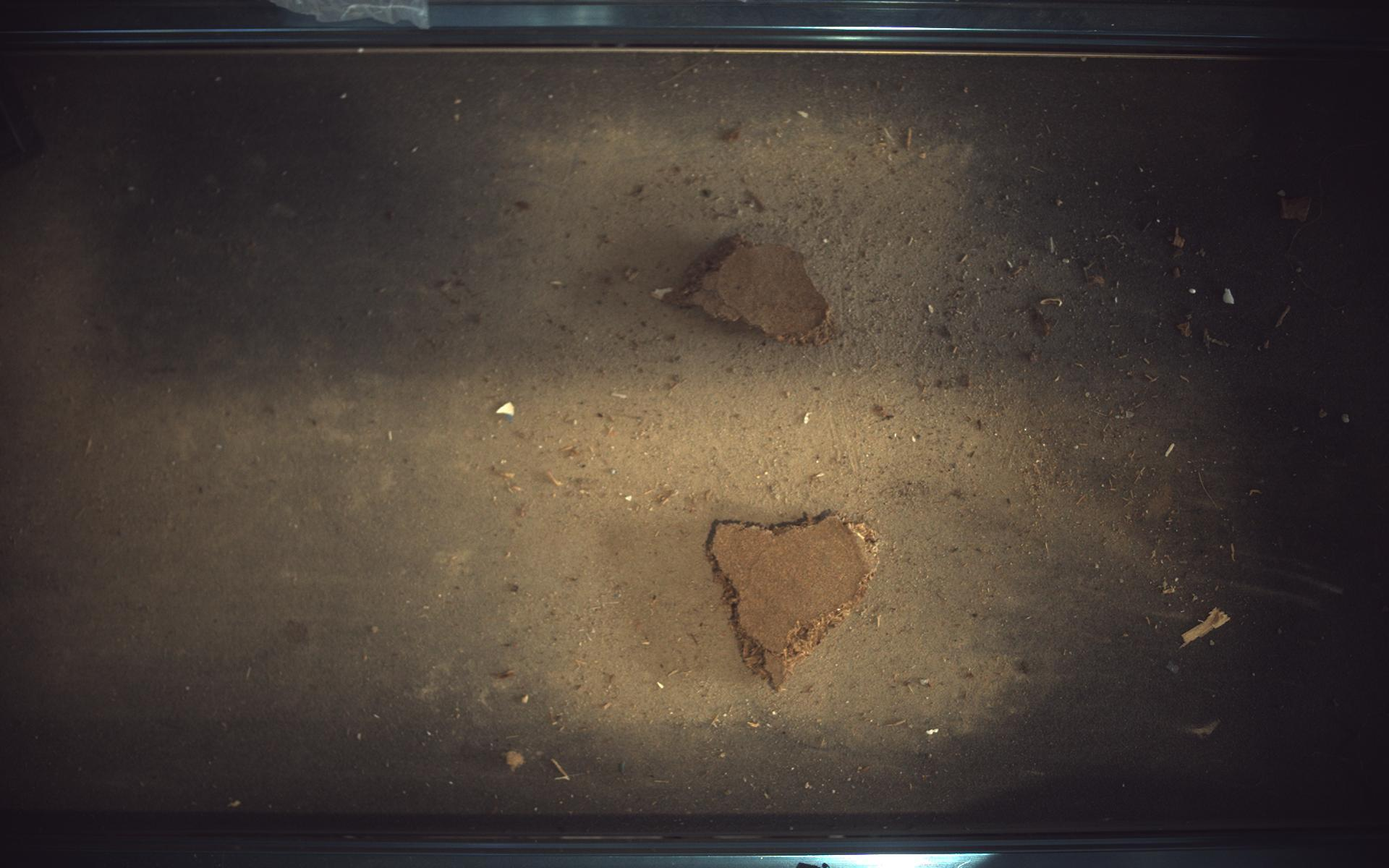wood: (708, 513, 880, 691), (654, 235, 835, 345)
